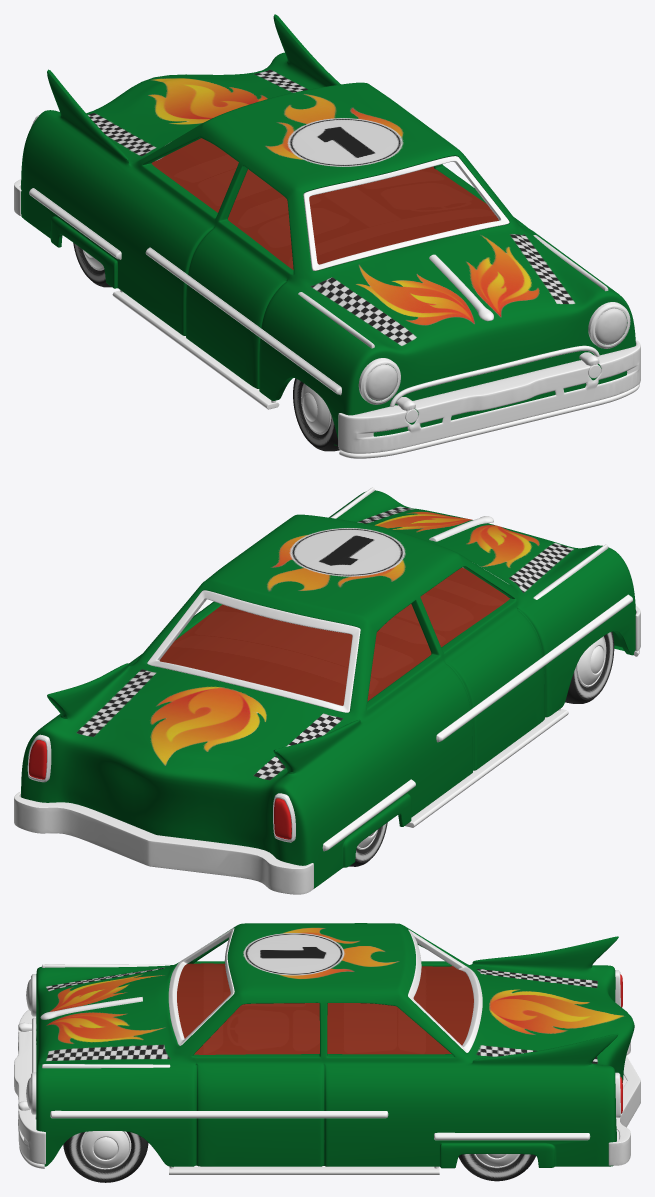
The model's file is toy_car.glb.
3 renders of one model, top to bottom at view 1: azimuth 30°, elevation 25°; view 2: azimuth 150°, elevation 25°; view 3: azimuth 270°, elevation 25°, orthographic. The views are drawn at different scales.
Size of the model in its own units: 0.0187 by 0.0116 by 0.0384.
Materials: 1 (1 with a texture image).
